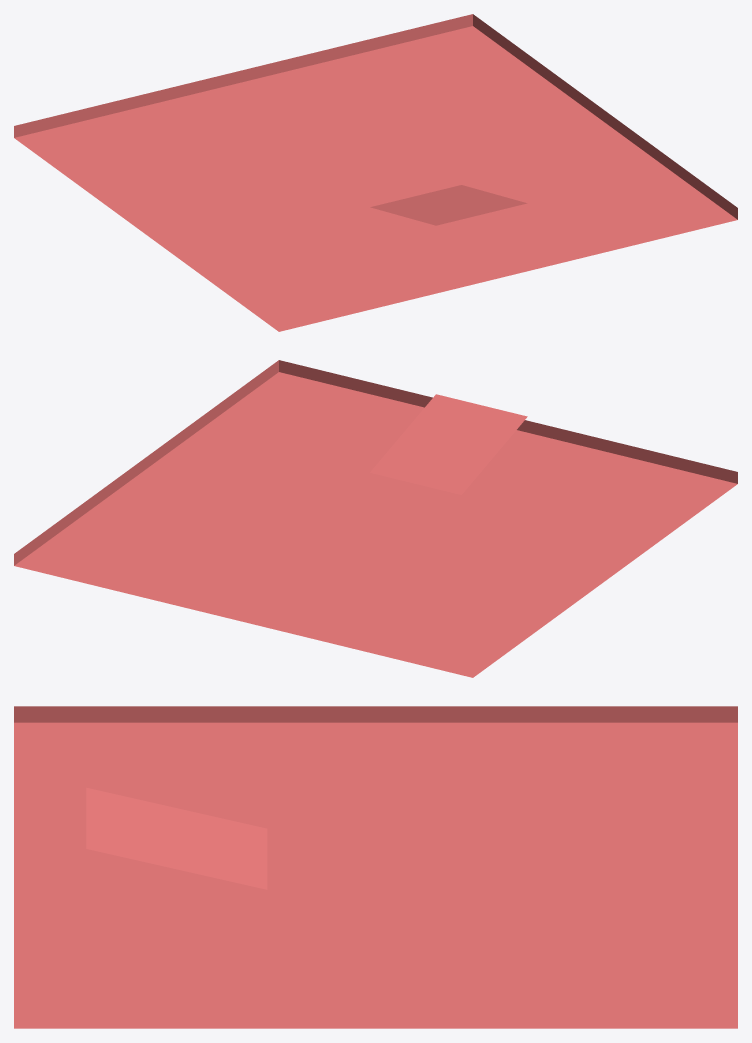
File: collider.glb
3 views of the same model, one above another, from view 1: azimuth 30°, elevation 25°; view 2: azimuth 150°, elevation 25°; view 3: azimuth 270°, elevation 25° (orthographic). The views are drawn at different scales.
Visible parts, largest first — view 1: ground, ramp; view 2: ground, ramp; view 3: ground, ramp.
Part boxes in pixels (box(x1,y1,x2,y2)): ground: box(14, 14, 737, 331); ramp: box(370, 185, 527, 225); ground: box(14, 360, 737, 677); ramp: box(370, 394, 527, 494); ground: box(14, 706, 737, 1028); ramp: box(86, 787, 267, 889).
Bounding box in the file's own units: 40 × 3.5 × 40.
